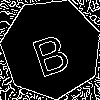B: (26, 24, 73, 78)
